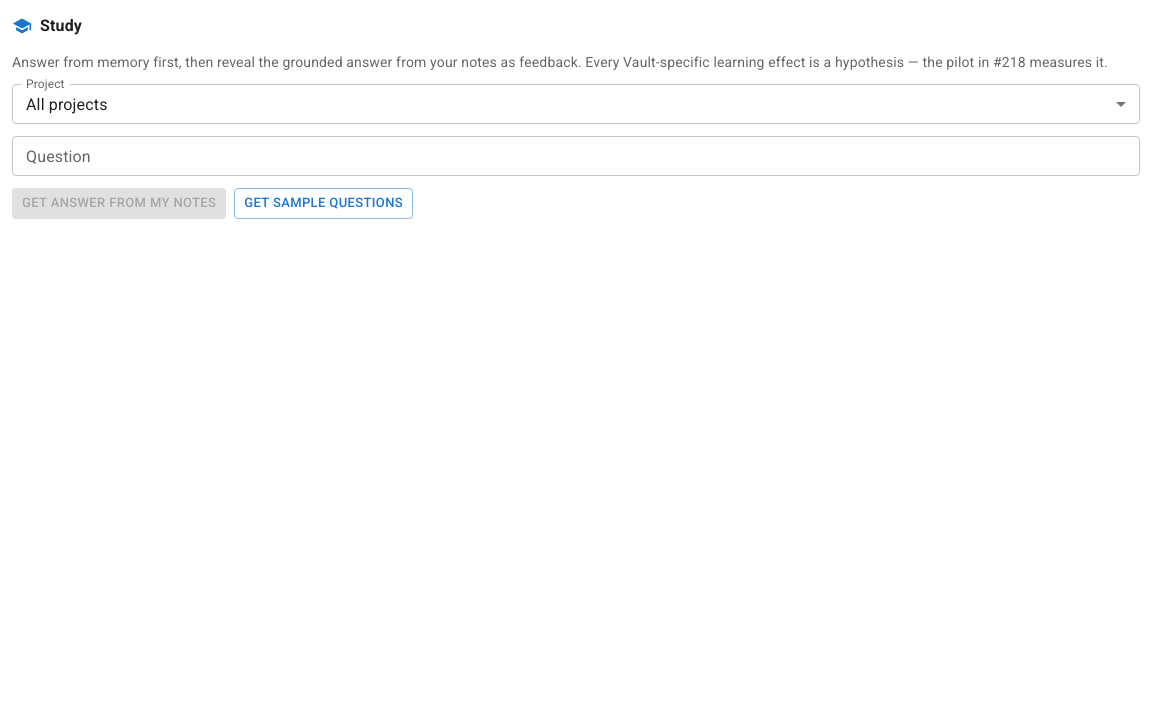
Test: StudyView › stores the answer without rendering it before reveal
Type "What is PARA?" into the field labelled "Question" at (576, 156), box [12, 136, 1140, 176]
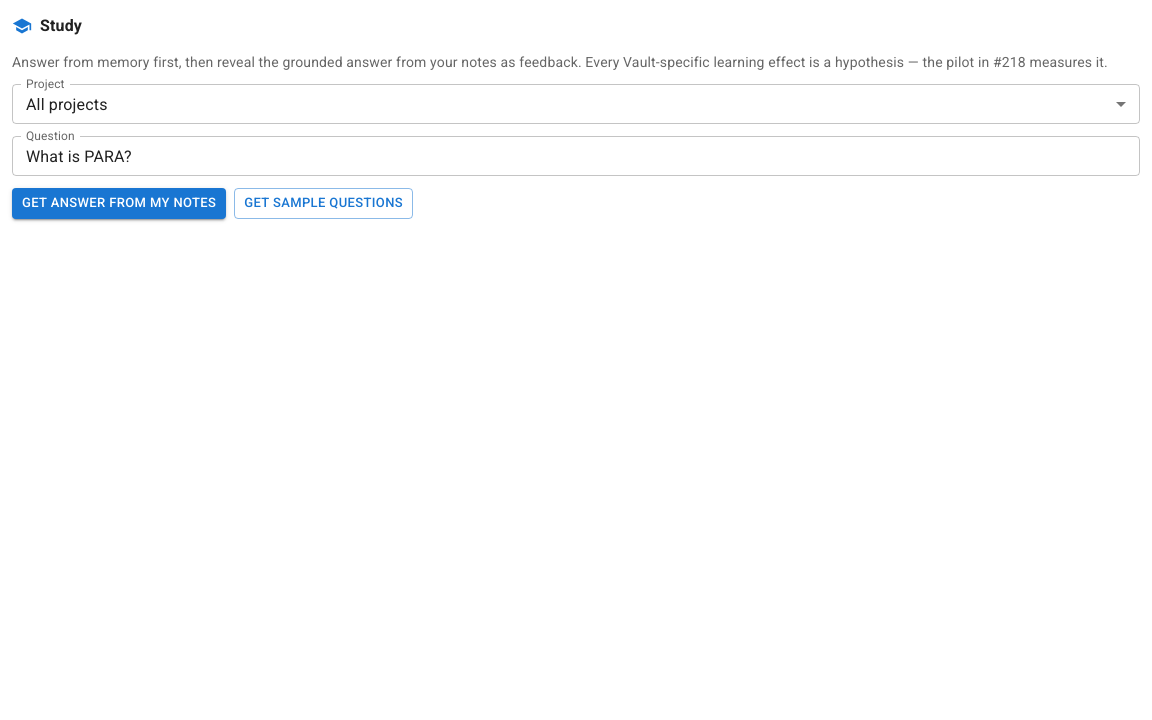
Click the button "Get answer from my notes" at (119, 203), box [12, 188, 226, 219]
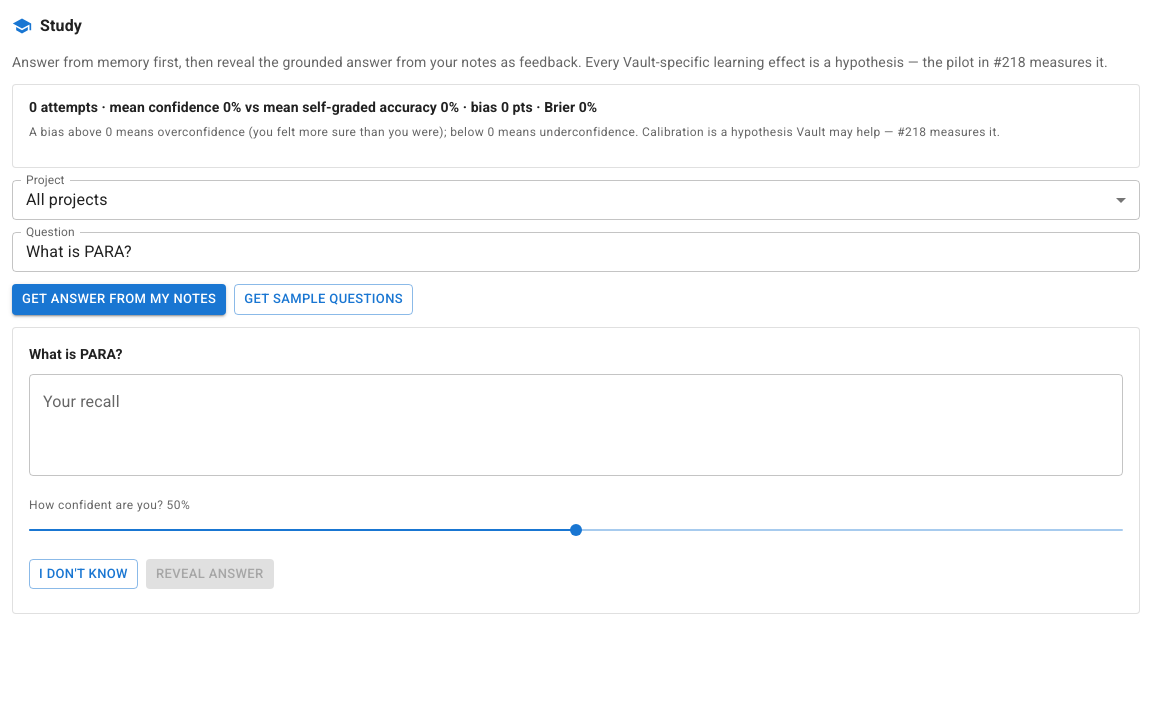
Expected: the element with test id "study-recall" is shown, [12, 327, 1140, 614]
